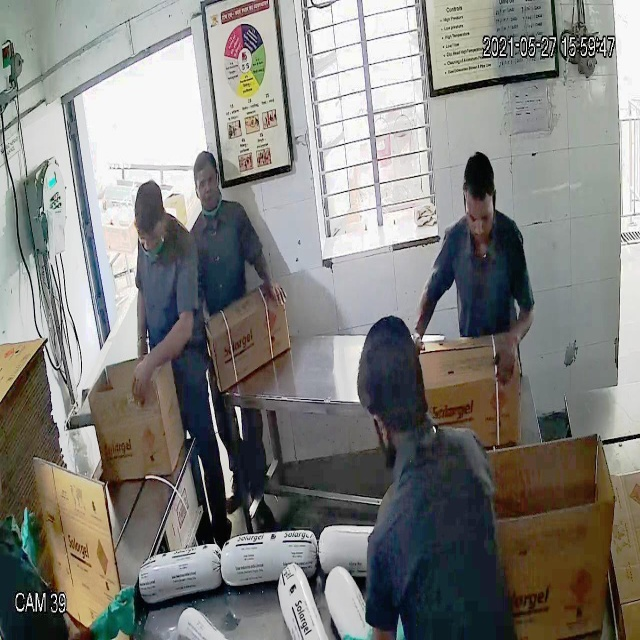Sin_gafas: (463, 201, 498, 230)
